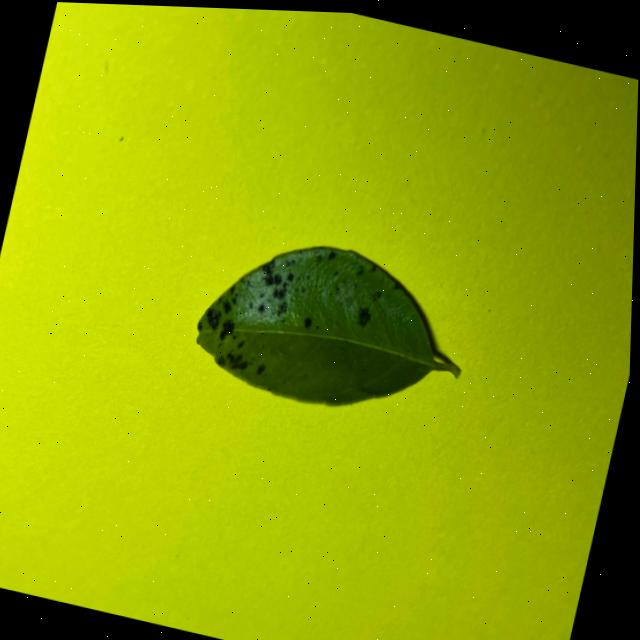sooty_mold: (196, 247, 459, 406)
